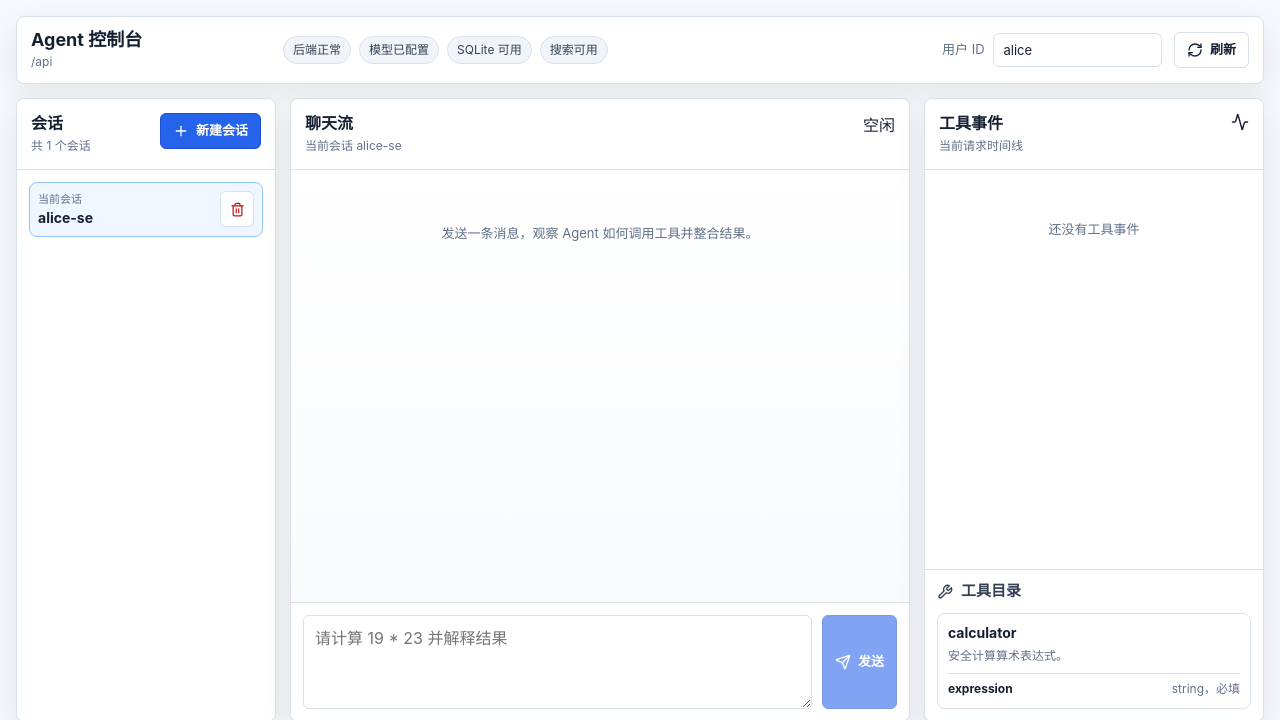
Agent 控制台 › 切换用户时立即清空旧会话并不读取旧会话消息
Check: the text "alice-se" is shown, box left=38, top=209, right=93, bottom=226
Replace the text in the field labelled "用户 ID" with "bob": (1077, 50) left=992, top=33, right=1162, bottom=67
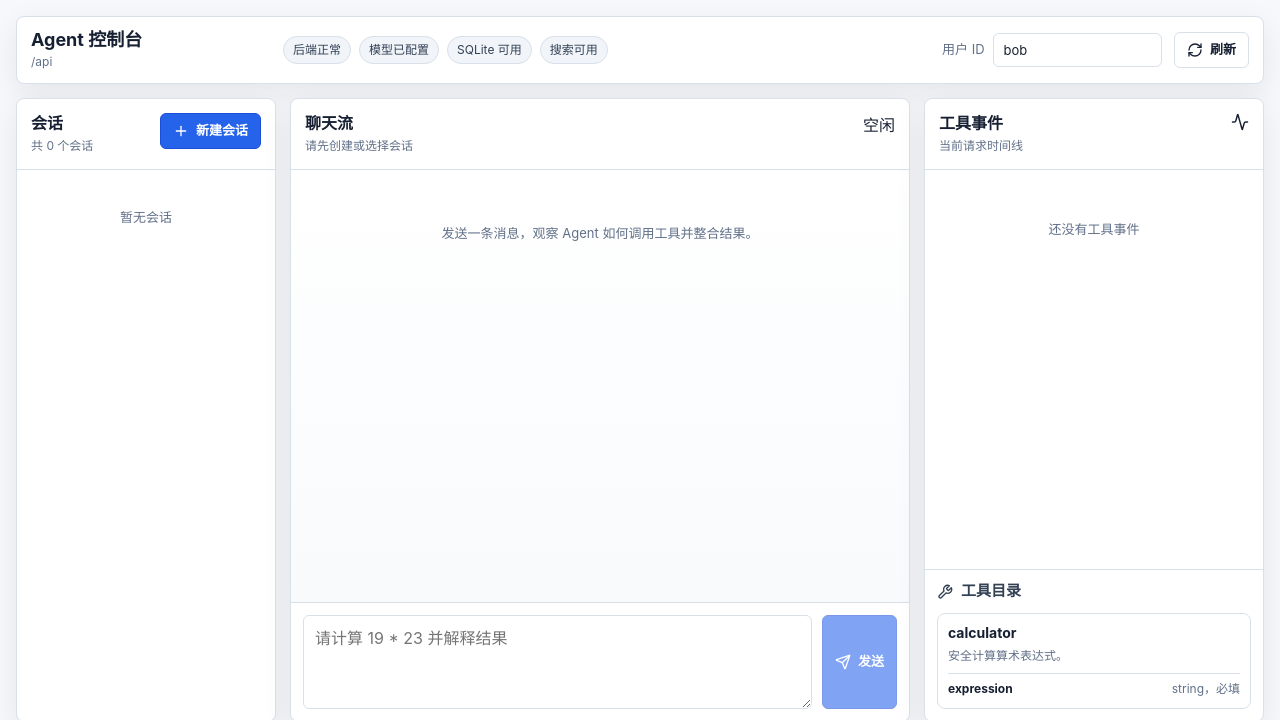
Check: the button "alice-se" is gone
Check: the text "暂无会话" is shown, box left=120, top=209, right=172, bottom=225
